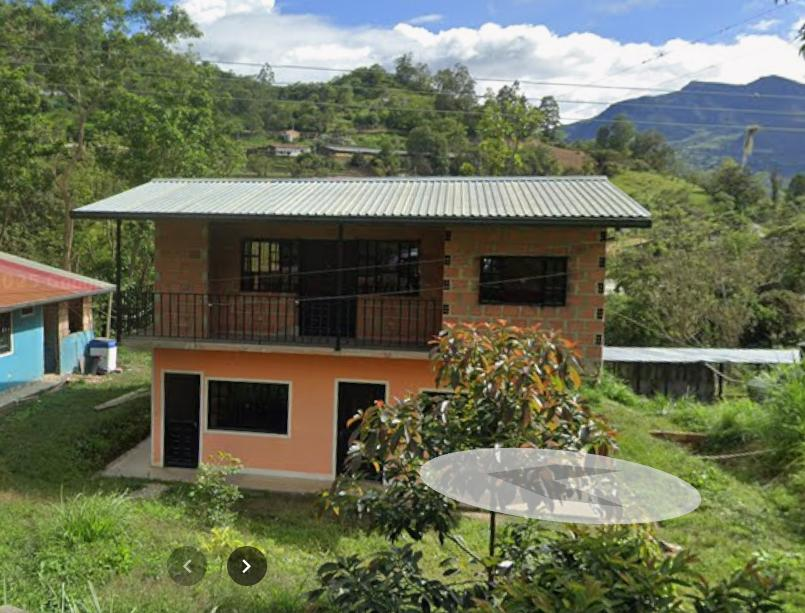casa: (73, 176, 650, 484)
